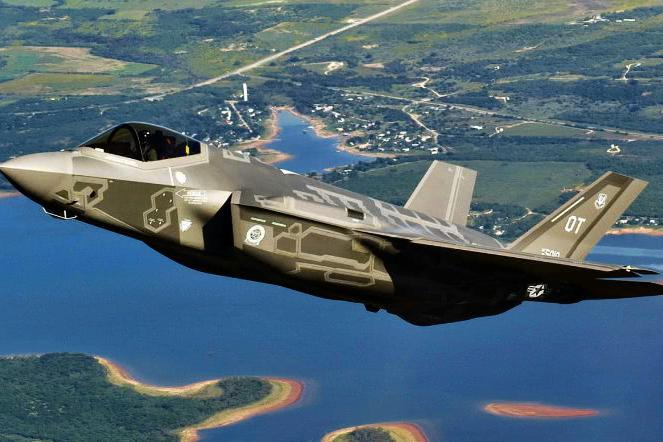airplane: (1, 120, 663, 329)
